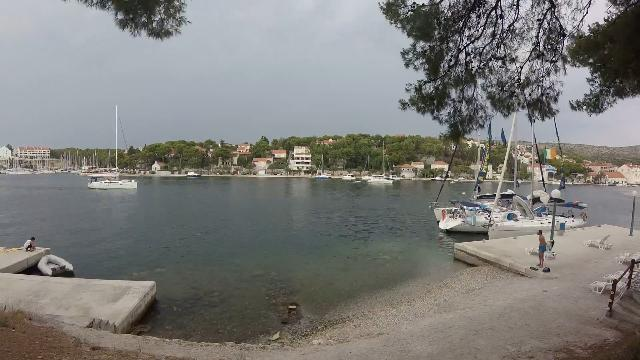Sailboat: (82, 169, 140, 193), (364, 170, 396, 188)
